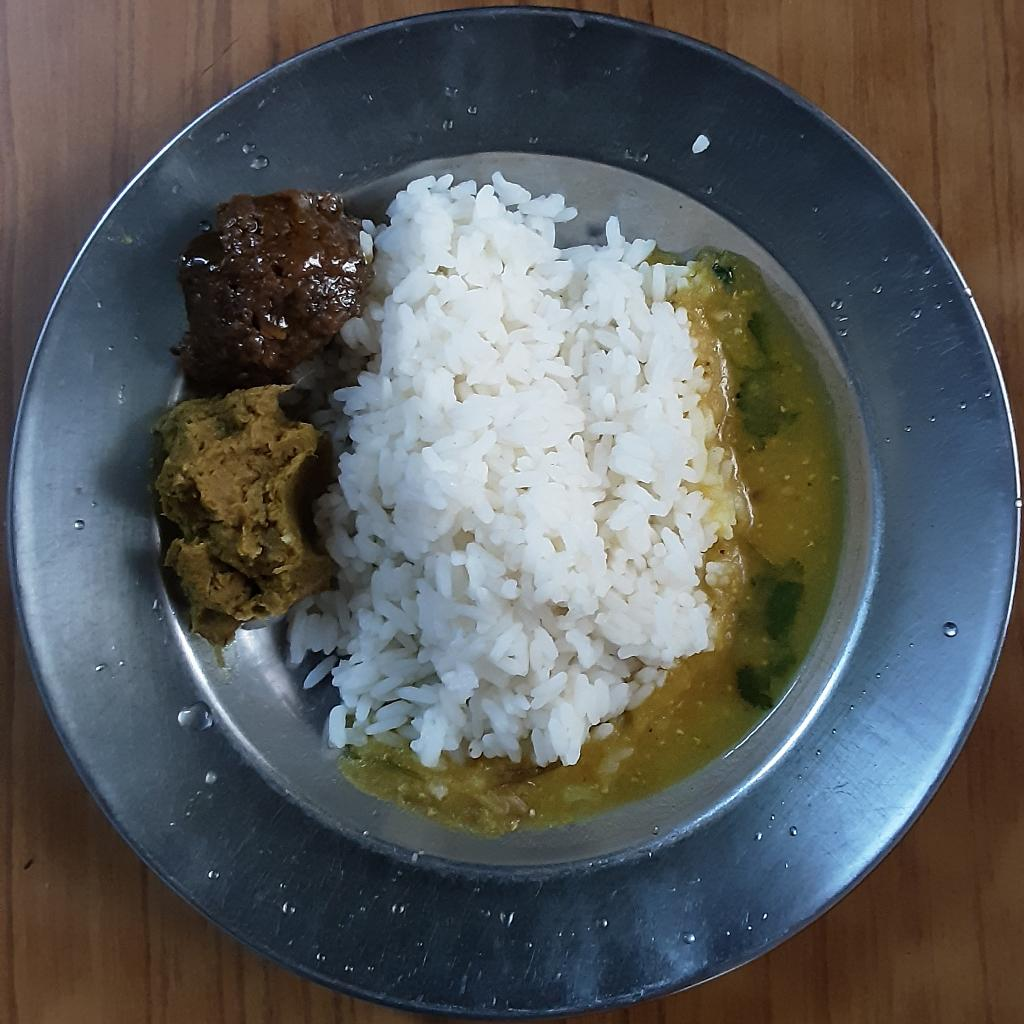achar: (173, 185, 372, 393)
daal: (337, 244, 851, 841)
rice: (287, 171, 753, 770)
vorta: (155, 389, 330, 648)
